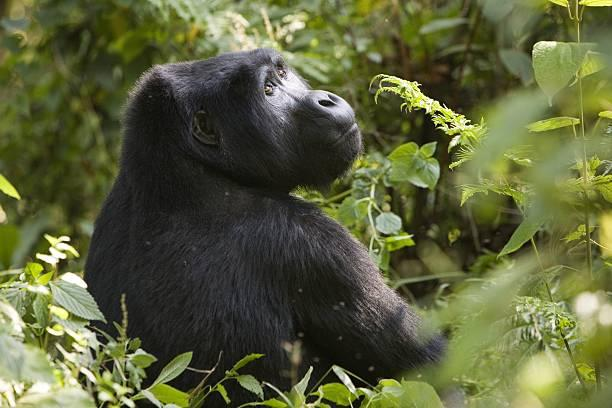gorille_Autres: (94, 46, 431, 382)
